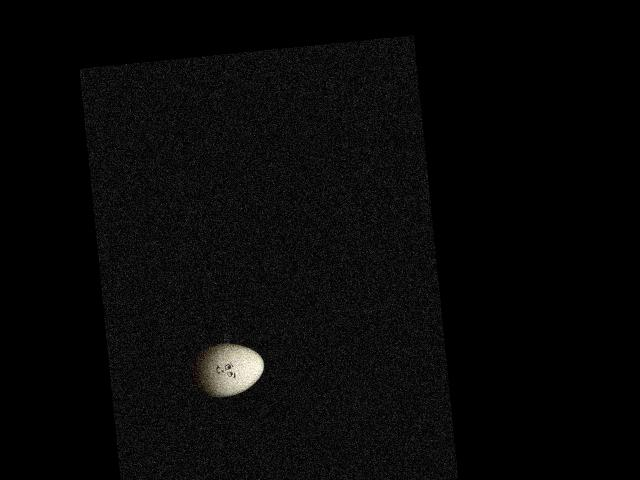egg: (192, 340, 267, 400)
